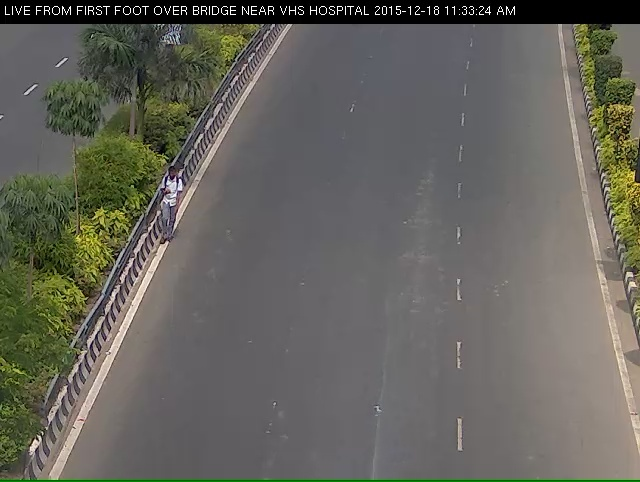Person: (143, 161, 190, 246)
